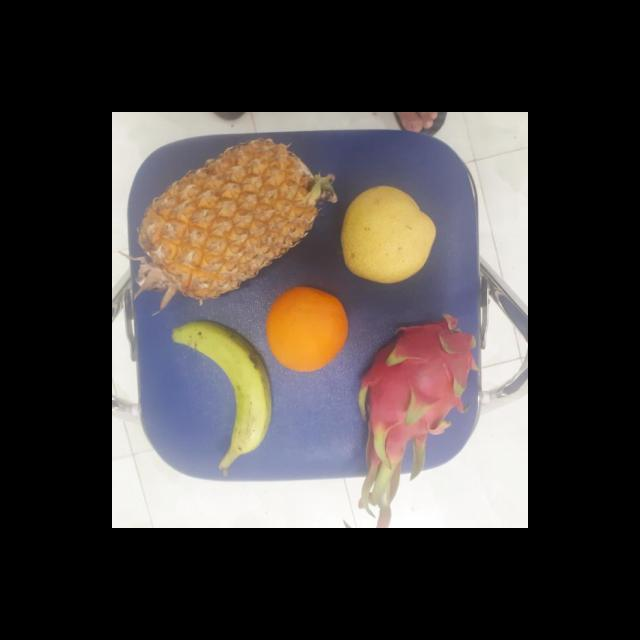banana: (178, 318, 270, 464)
orange: (262, 289, 349, 372)
pear: (336, 185, 440, 286)
pineapple: (130, 138, 322, 306)
pitaya: (352, 316, 483, 468)
